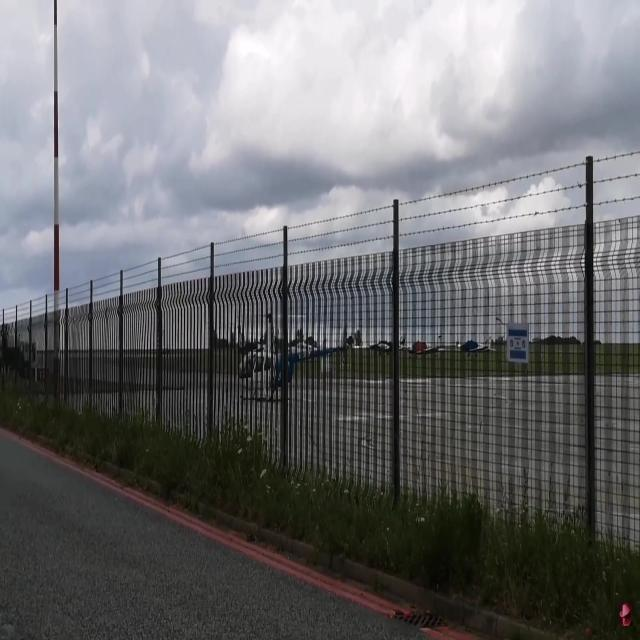CIV_HELO: (236, 312, 352, 403)
